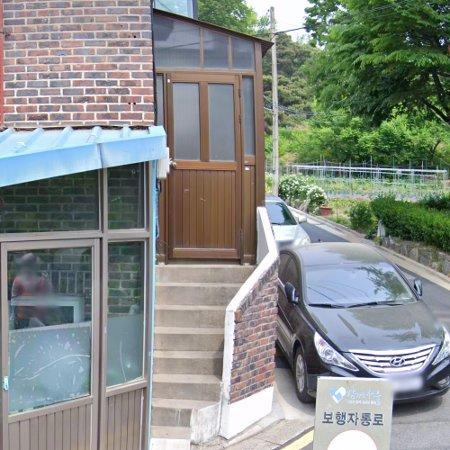stairs: (152, 266, 254, 450)
